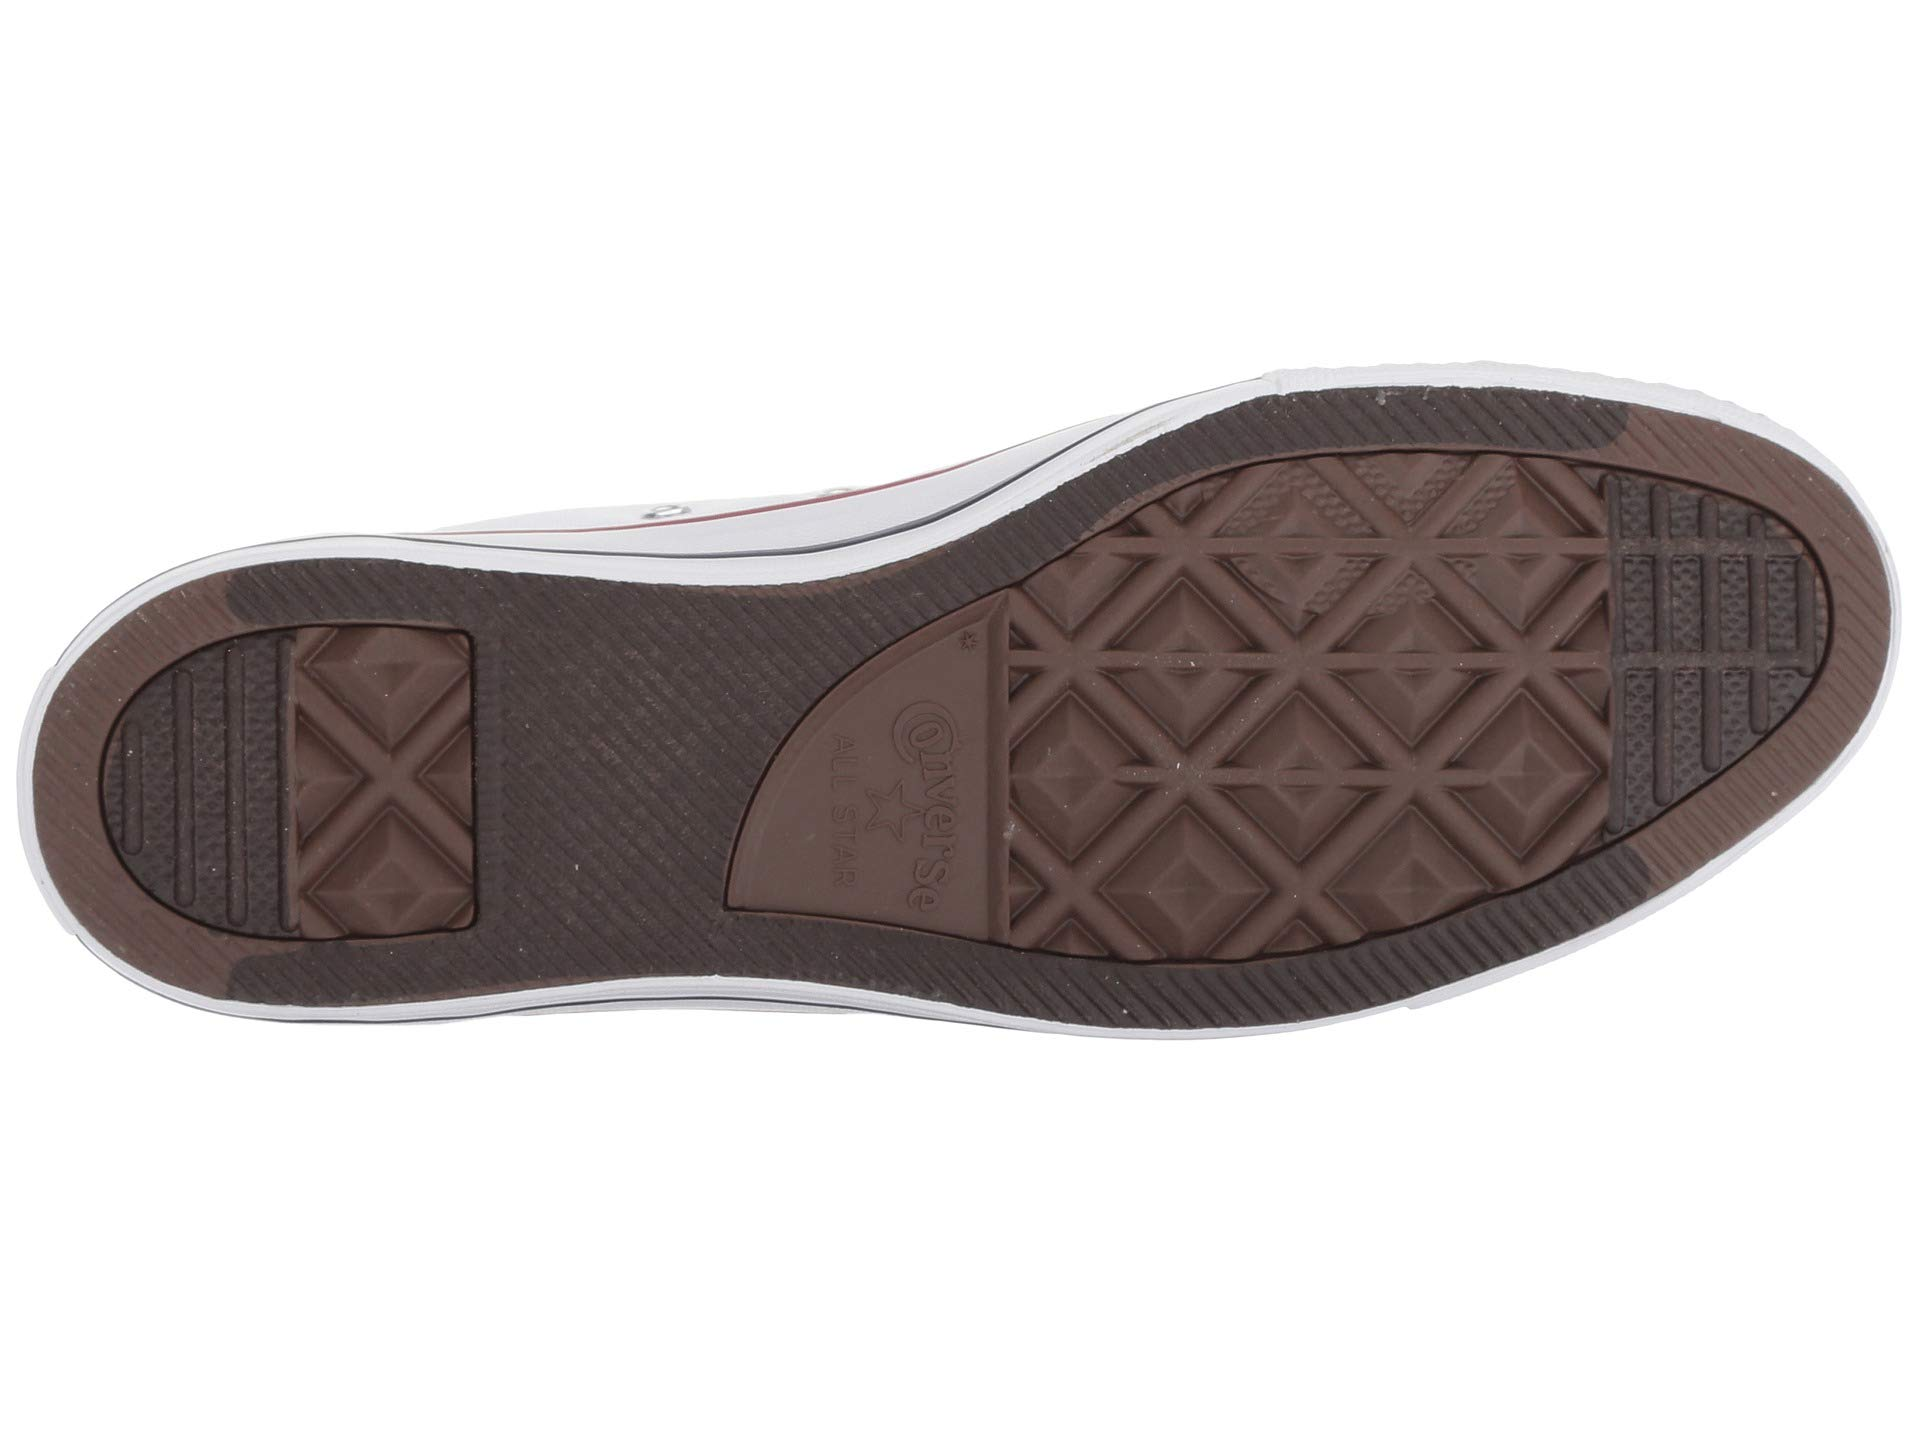chevron: (1034, 236, 1400, 585)
circle: (742, 315, 945, 594)
line: (742, 315, 945, 594)
other: (457, 236, 729, 451)
quad: (1034, 236, 1400, 585)
star: (742, 315, 945, 594)
text: (742, 315, 945, 594), (828, 346, 954, 475), (844, 481, 943, 588), (766, 424, 838, 499)
triangle: (1034, 236, 1400, 585)
